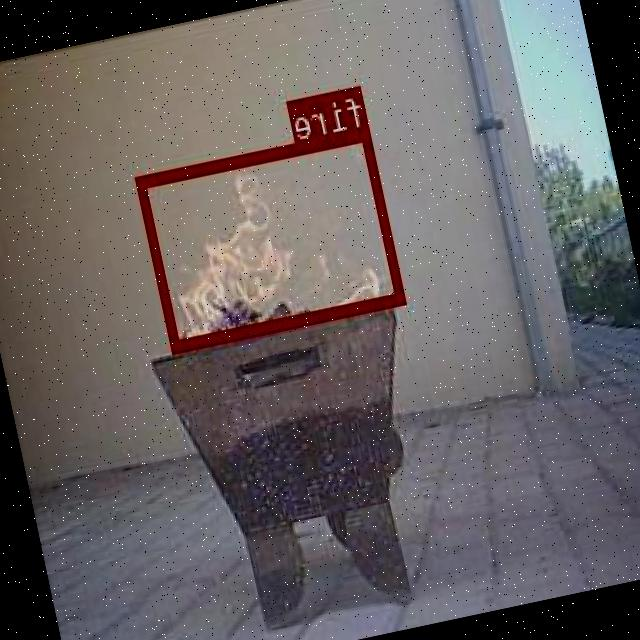fire: (137, 126, 406, 348)
